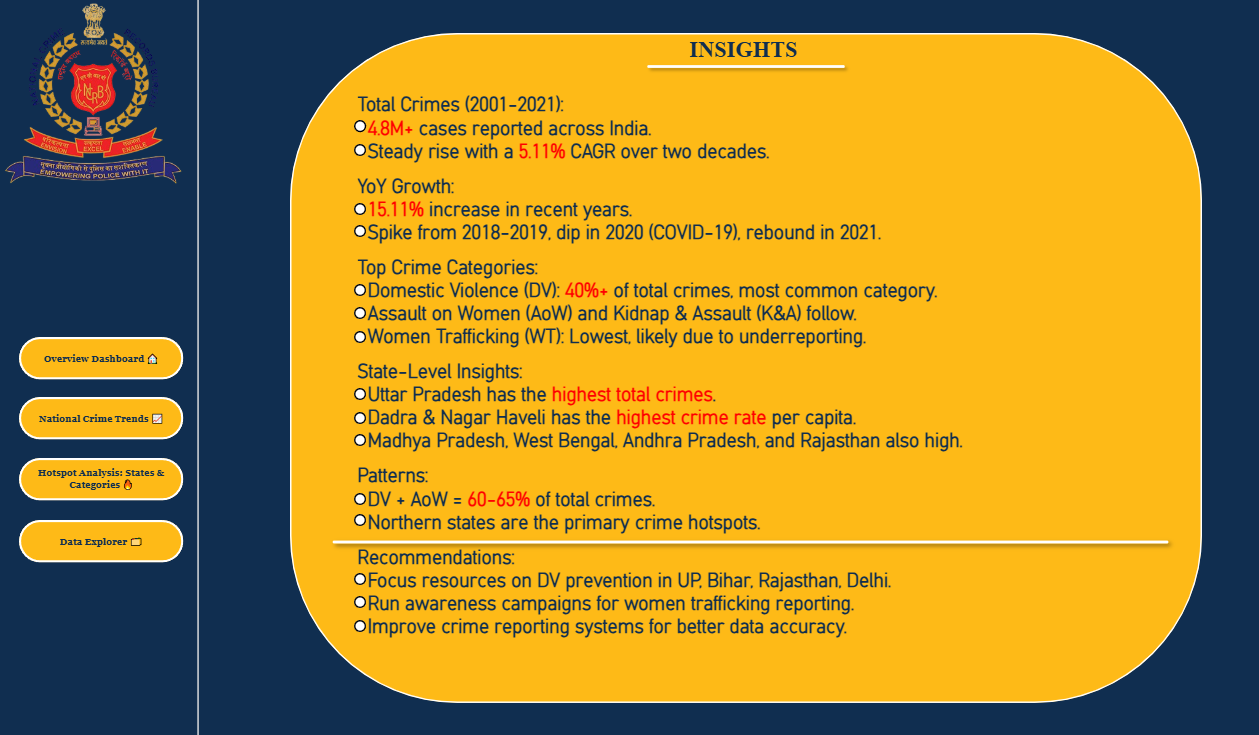

The page's visual inventory and layout, read from the dashboard file:
{"tool":"powerbi","page":{"name":"Key Takeaways & Actions 💡","canvas":[1800,1050],"ordinal":4},"visuals":[{"type":"shape","box":[414.3,47.1,1302.9,957.1],"z":0},{"type":"group","id":"g1","title":"Total Crimes","box":[505.8,171.7,17.5,51],"z":0,"group":"g8"},{"type":"shape","title":"1st Point","box":[505.8,171.7,17.5,17.5],"z":0,"group":"g1"},{"type":"shape","title":"1st Point","box":[506,290.7,17.3,17.3],"z":0,"group":"g2"},{"type":"shape","title":"1st Point","box":[506,406,17.3,17.3],"z":0,"group":"g3"},{"type":"shape","title":"1st Point","box":[506,554,17.3,17.3],"z":0,"group":"g5"},{"type":"shape","title":"1st Point","box":[506,704,17.3,17.3],"z":0,"group":"g6"},{"type":"actionButton","title":"RAW DATA","box":[27.2,743.7,234.7,60.5],"z":0,"group":"g4"},{"type":"shape","title":"1st Point","box":[506,819.4,17.3,17.3],"z":0,"group":"g7"},{"type":"shape","box":[133.4,0,300.2,1050],"z":1000},{"type":"shape","title":"2nd Point","box":[506,205.4,17.3,17.3],"z":1000,"group":"g1"},{"type":"group","id":"g2","title":"YOY Growth","box":[506,290.7,17.3,48.7],"z":1000,"group":"g8"},{"type":"shape","title":"2nd Point","box":[506,322,17.3,17.3],"z":1000,"group":"g2"},{"type":"shape","title":"2nd Point","box":[506,439.3,17.3,17.3],"z":1000,"group":"g3"},{"type":"shape","title":"2nd Point","box":[506,588.7,17.3,17.3],"z":1000,"group":"g5"},{"type":"actionButton","title":"TOP CRIMES POV","box":[27.2,654.7,234.7,60.5],"z":1000,"group":"g4"},{"type":"shape","title":"2nd Point","box":[506,734.7,17.3,17.3],"z":1000,"group":"g6"},{"type":"shape","title":"2nd Point","box":[506,852.1,17.3,17.3],"z":1000,"group":"g7"},{"type":"image","title":"NCRB Logo","box":[0,0,266.8,266.8],"z":2000},{"type":"group","id":"g3","title":"Top Crime Categories","box":[506,406,17.3,84.7],"z":2000,"group":"g8"},{"type":"shape","title":"3rd Point","box":[506,473.3,17.3,17.3],"z":2000,"group":"g3"},{"type":"actionButton","title":"EXECUTIVE OVERVIEW","box":[27.2,567,234.7,60.5],"z":2000,"group":"g4"},{"type":"shape","title":"3rd Point","box":[506,619.3,17.3,17.3],"z":2000,"group":"g5"},{"type":"shape","title":"3rd Point","box":[506,886.1,17.3,17.3],"z":2000,"group":"g7"},{"type":"group","id":"g4","title":"Navigation Buttons","box":[27.2,481.8,234.7,322.4],"z":3000},{"type":"actionButton","title":"HOME PAGE","box":[27.2,481.8,234.7,60.5],"z":3000,"group":"g4"},{"type":"group","id":"g5","title":"State - Level Insights","box":[506,554,17.3,82.7],"z":3000,"group":"g8"},{"type":"textbox","box":[505.7,127.1,1247.1,828.6],"z":4000},{"type":"group","id":"g6","title":"Patterns","box":[506,704,17.3,48],"z":4000,"group":"g8"},{"type":"textbox","box":[980,47.1,171.4,51.4],"z":5000},{"type":"group","id":"g7","title":"Recommendations","box":[506,819.4,17.3,84],"z":5000,"group":"g8"},{"type":"group","id":"g8","title":"Bullets","box":[505.8,171.7,17.5,731.7],"z":6000},{"type":"shape","box":[915,0,300,190],"z":7000},{"type":"shape","box":[464.3,624.3,1215.7,300],"z":8000}]}

Visuals, with their boxes on the page's 1800x1050 design canvas (x1, y1, x2, y2). These are canvas units, not pixel positions in the 1259x735 screenshot, which may show the page scaled, cropped or inside an application window:
shape: (left=414, top=47, right=1717, bottom=1004)
"Total Crimes" group: (left=506, top=172, right=523, bottom=223)
"1st Point" shape: (left=506, top=172, right=523, bottom=189)
"1st Point" shape: (left=506, top=291, right=523, bottom=308)
"1st Point" shape: (left=506, top=406, right=523, bottom=423)
"1st Point" shape: (left=506, top=554, right=523, bottom=571)
"1st Point" shape: (left=506, top=704, right=523, bottom=721)
"RAW DATA" actionButton: (left=27, top=744, right=262, bottom=804)
"1st Point" shape: (left=506, top=819, right=523, bottom=837)
shape: (left=133, top=0, right=434, bottom=1050)
"2nd Point" shape: (left=506, top=205, right=523, bottom=223)
"YOY Growth" group: (left=506, top=291, right=523, bottom=339)
"2nd Point" shape: (left=506, top=322, right=523, bottom=339)
"2nd Point" shape: (left=506, top=439, right=523, bottom=457)
"2nd Point" shape: (left=506, top=589, right=523, bottom=606)
"TOP CRIMES POV" actionButton: (left=27, top=655, right=262, bottom=715)
"2nd Point" shape: (left=506, top=735, right=523, bottom=752)
"2nd Point" shape: (left=506, top=852, right=523, bottom=869)
"NCRB Logo" image: (left=0, top=0, right=267, bottom=267)
"Top Crime Categories" group: (left=506, top=406, right=523, bottom=491)
"3rd Point" shape: (left=506, top=473, right=523, bottom=491)
"EXECUTIVE OVERVIEW" actionButton: (left=27, top=567, right=262, bottom=628)
"3rd Point" shape: (left=506, top=619, right=523, bottom=637)
"3rd Point" shape: (left=506, top=886, right=523, bottom=903)
"Navigation Buttons" group: (left=27, top=482, right=262, bottom=804)
"HOME PAGE" actionButton: (left=27, top=482, right=262, bottom=542)
"State - Level Insights" group: (left=506, top=554, right=523, bottom=637)
textbox: (left=506, top=127, right=1753, bottom=956)
"Patterns" group: (left=506, top=704, right=523, bottom=752)
textbox: (left=980, top=47, right=1151, bottom=98)
"Recommendations" group: (left=506, top=819, right=523, bottom=903)
"Bullets" group: (left=506, top=172, right=523, bottom=903)
shape: (left=915, top=0, right=1215, bottom=190)
shape: (left=464, top=624, right=1680, bottom=924)
